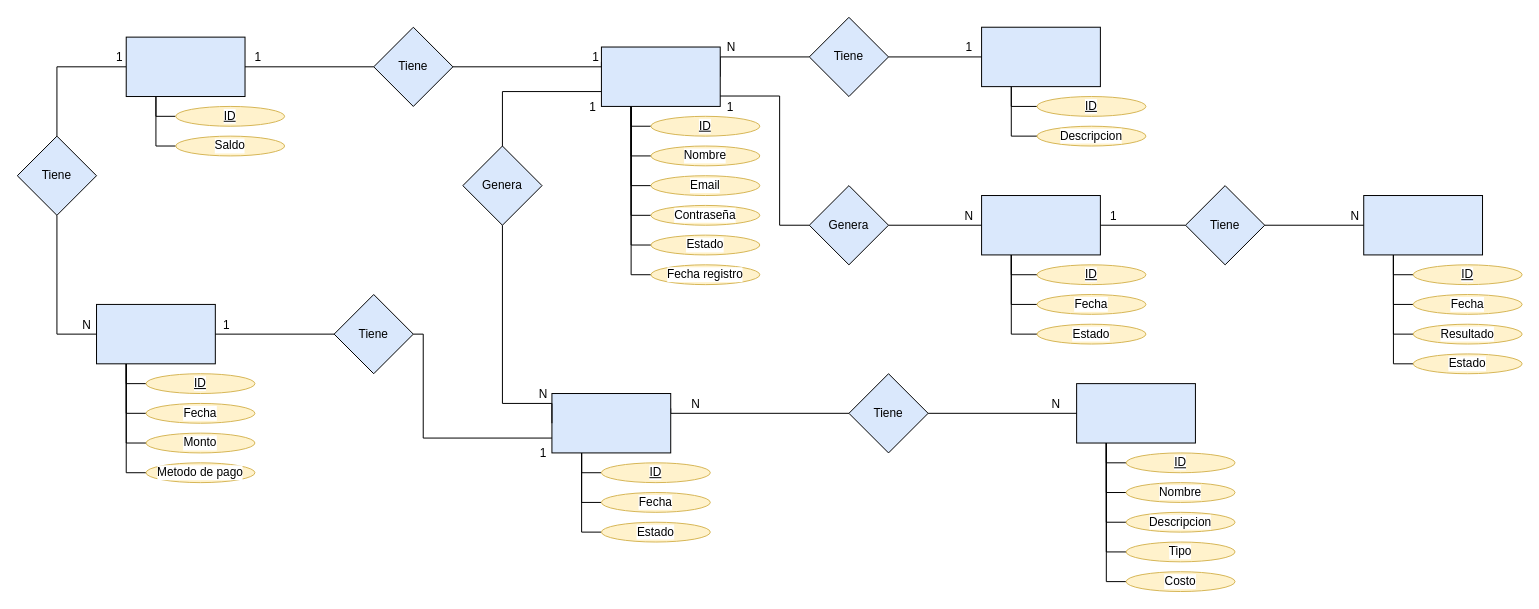
The diagram is 1539 pixels wide and 609 high, and some of its shapes have lost their labels. The centre of each missing label's shape, as x and y in pixels:
"Cuenta corriente" goes at (185,66).
"Factura" goes at (611,423).
"Historial de ejecucion" goes at (1423,225).
"Pago" goes at (155,333).
"Proceso" goes at (1135,413).
"Rol" goes at (1040,56).
"Solicitud de proceso" goes at (1040,225).
"Usuario" goes at (660,76).
